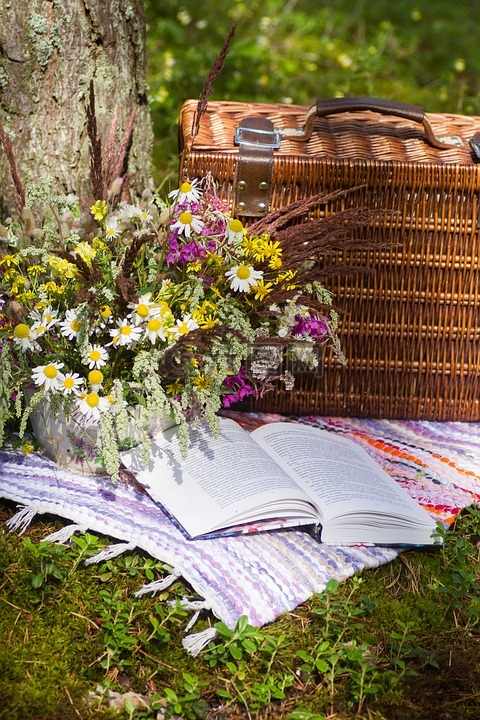book: (117, 398, 460, 571)
